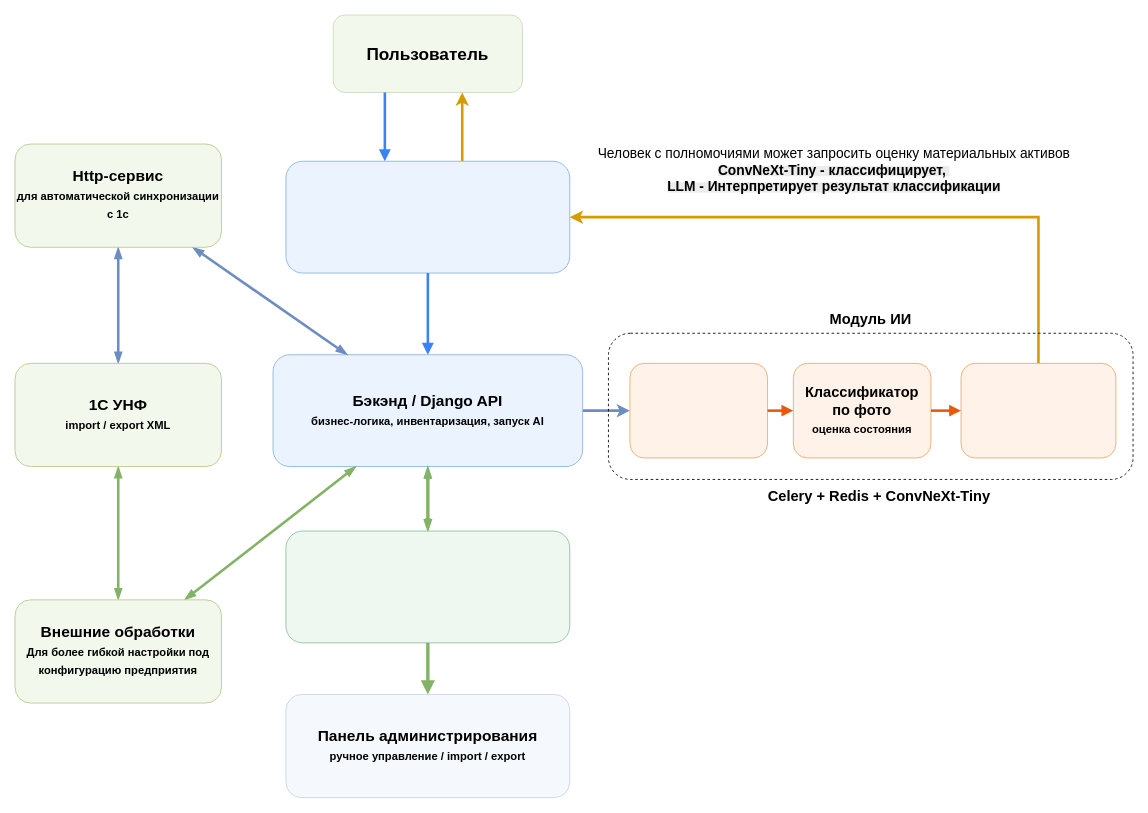
Image size: 1148x813. Some labels were removed from this diagram. The box of each missing label's shape, as (x1, y1, x2, y2) in pixels:
GigaChat / LLM списать / не списать / проверить: (960, 362, 1116, 458)
База данных активы / фото / результаты / рекомендации: (285, 530, 570, 643)
Мобильное приложение сканирование / фото / фиксация состояния: (285, 160, 570, 273)
Очередь AI-задач буфер пиковых запросов: (629, 362, 768, 458)
